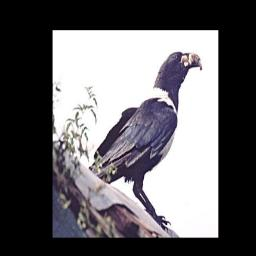Crow: (84, 50, 203, 231)
